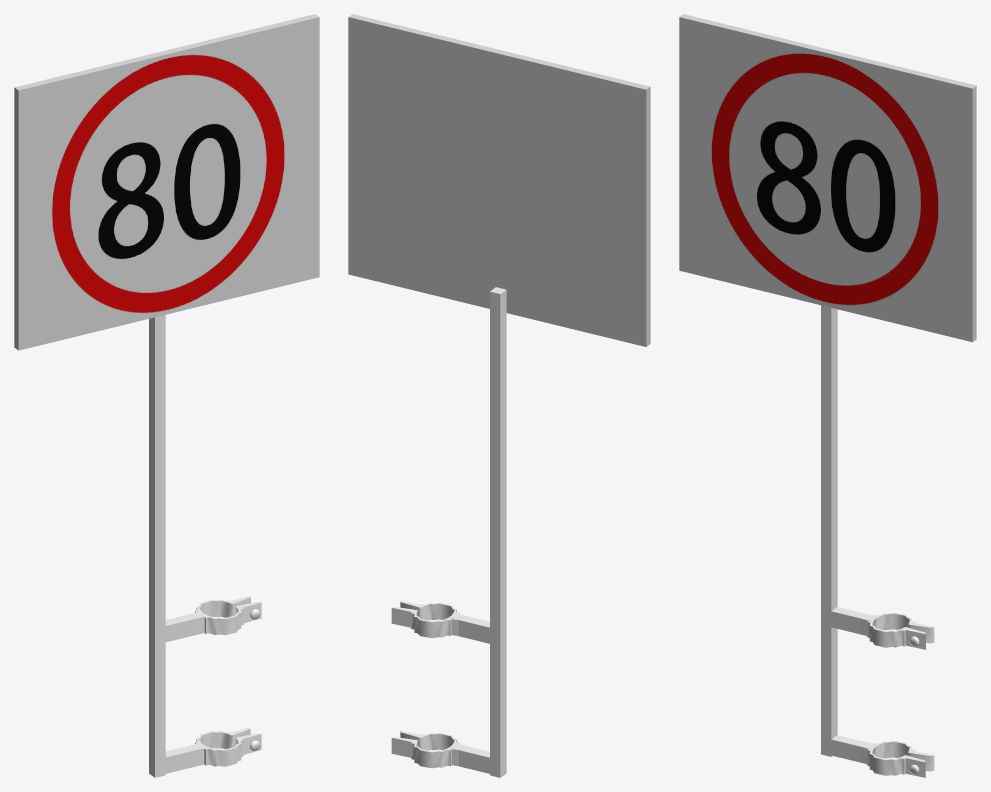
3 views of the same model, side by side, from view 1: azimuth 30°, elevation 25°; view 2: azimuth 150°, elevation 25°; view 3: azimuth 330°, elevation 25° (orthographic). The views are drawn at different scales.
Parts seen in each view (by area): view 1: 立方体.1-材质.4, 立方体, 立方体.1-材质.2, pCube31, pCube20, 立方体.1, 立方体.2; view 2: 立方体.1-材质.2, 立方体, pCube20, pCube31, 立方体.2, 立方体.1; view 3: 立方体.1-材质.4, 立方体, 立方体.1-材质.2, pCube31, pCube20, 立方体.2, 立方体.1.
Part boxes in pixels (x1,y1,x2,y2): 立方体.1-材质.4: (18, 17, 319, 350); 立方体: (149, 315, 165, 777); 立方体.1-材质.2: (14, 14, 318, 350); pCube31: (194, 595, 261, 635); pCube20: (194, 727, 261, 766); 立方体.1: (165, 611, 206, 642); 立方体.2: (165, 743, 206, 773); 立方体.1-材质.2: (348, 14, 650, 346); 立方体: (490, 287, 506, 777); pCube20: (391, 730, 459, 768); pCube31: (391, 600, 459, 638); 立方体.2: (449, 743, 491, 774); 立方体.1: (449, 613, 491, 644); 立方体.1-材质.4: (679, 17, 972, 342); 立方体: (821, 305, 837, 756); 立方体.1-材质.2: (679, 14, 976, 341); pCube31: (860, 612, 934, 649); pCube20: (860, 740, 934, 777); 立方体.2: (831, 735, 877, 762); 立方体.1: (831, 607, 877, 634).
Bounding box in the file's own units: 7.01 × 16.13 × 0.9508.
Materials: 4 (1 with a texture image).
